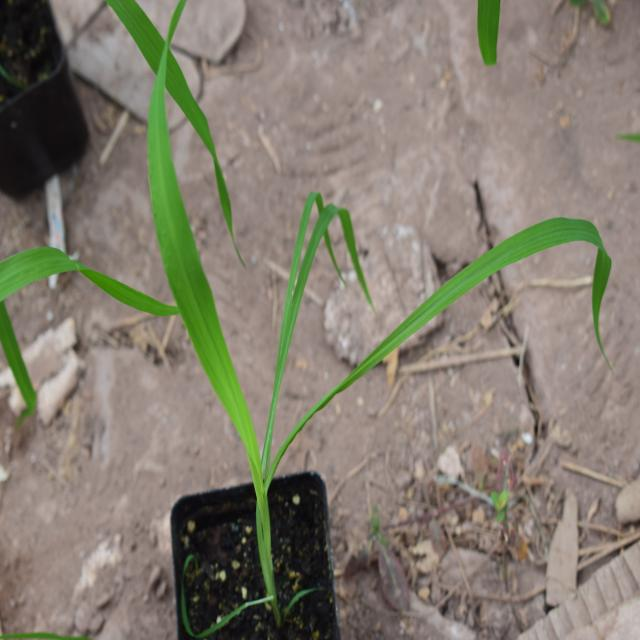barnyard_grass: (124, 42, 606, 471)
